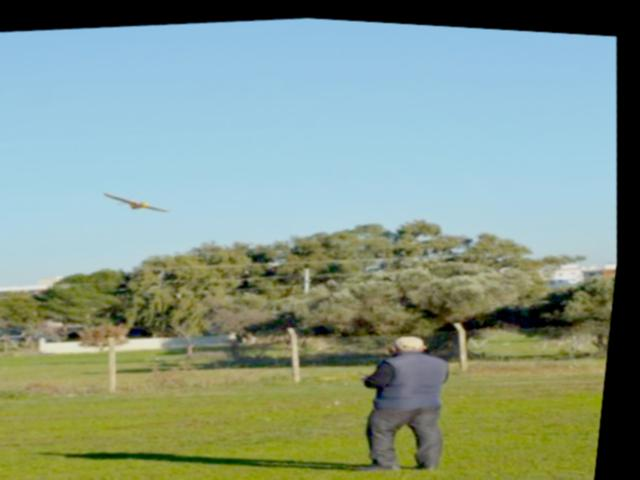iha: (106, 185, 176, 216)
